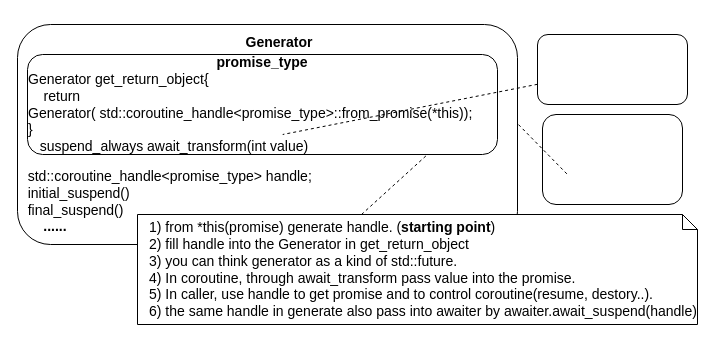
Some shapes in this 715 by 342 pixel diagram are drawn without their labels. The box of each missing label's shape, as (x1, y1, x2, y2) in pixels:
caller gen= sequence gen.promise() gen.resume(): (542, 114, 682, 204)
sequence(coroutine) co_await i++: (536, 34, 688, 104)
